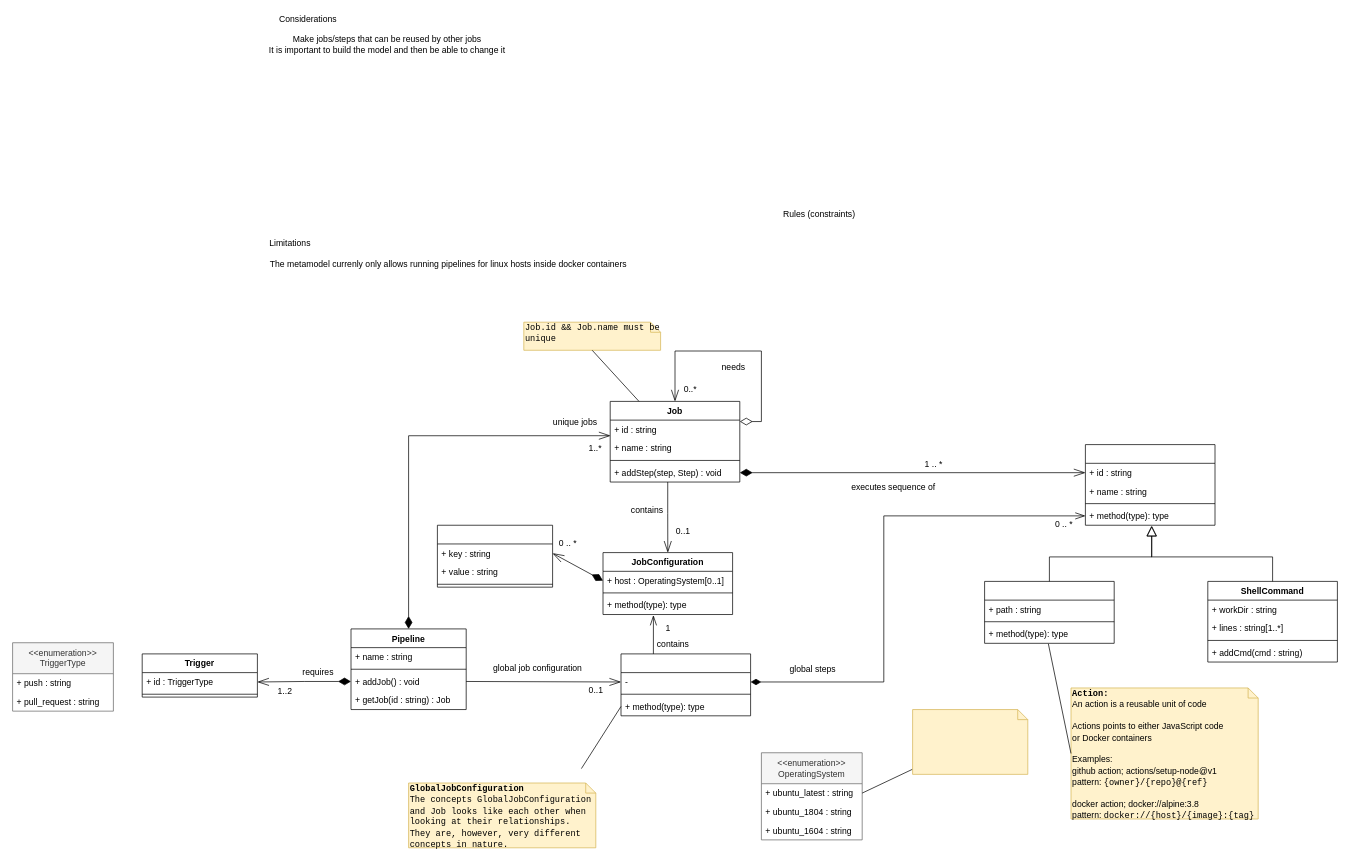
Image size: 1350x862. Some labels were removed from this diagram. Here are the shapes that lost their labels. From the top down, the box of each, then its label:
(1085, 444, 1215, 525): Step
(437, 525, 553, 587): EnvironmentVariable
(984, 581, 1114, 643): RemoteAction
(620, 653, 751, 716): GlobalJobConfiguration
(912, 709, 1028, 774): Valid string values: ubuntu-latest ubuntu-18.04 ubuntu-16.04
